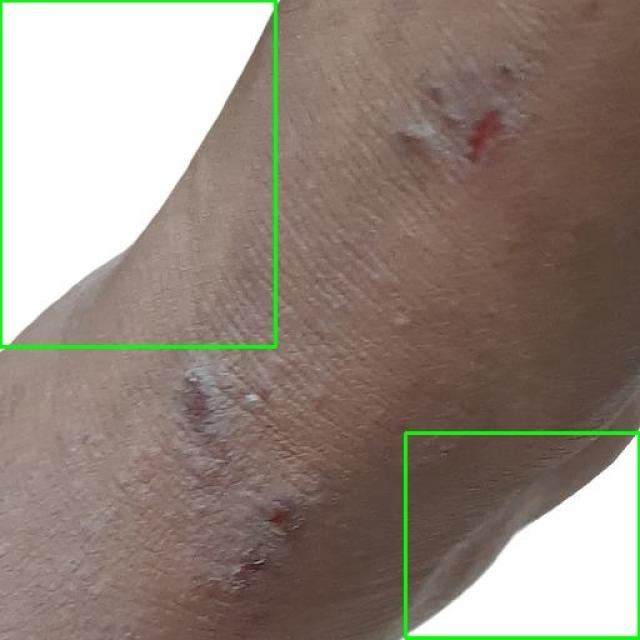Atopic Dermatitis: (0, 0, 275, 346), (405, 434, 639, 639)
